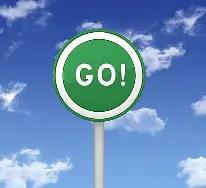Go: (55, 31, 142, 119)
